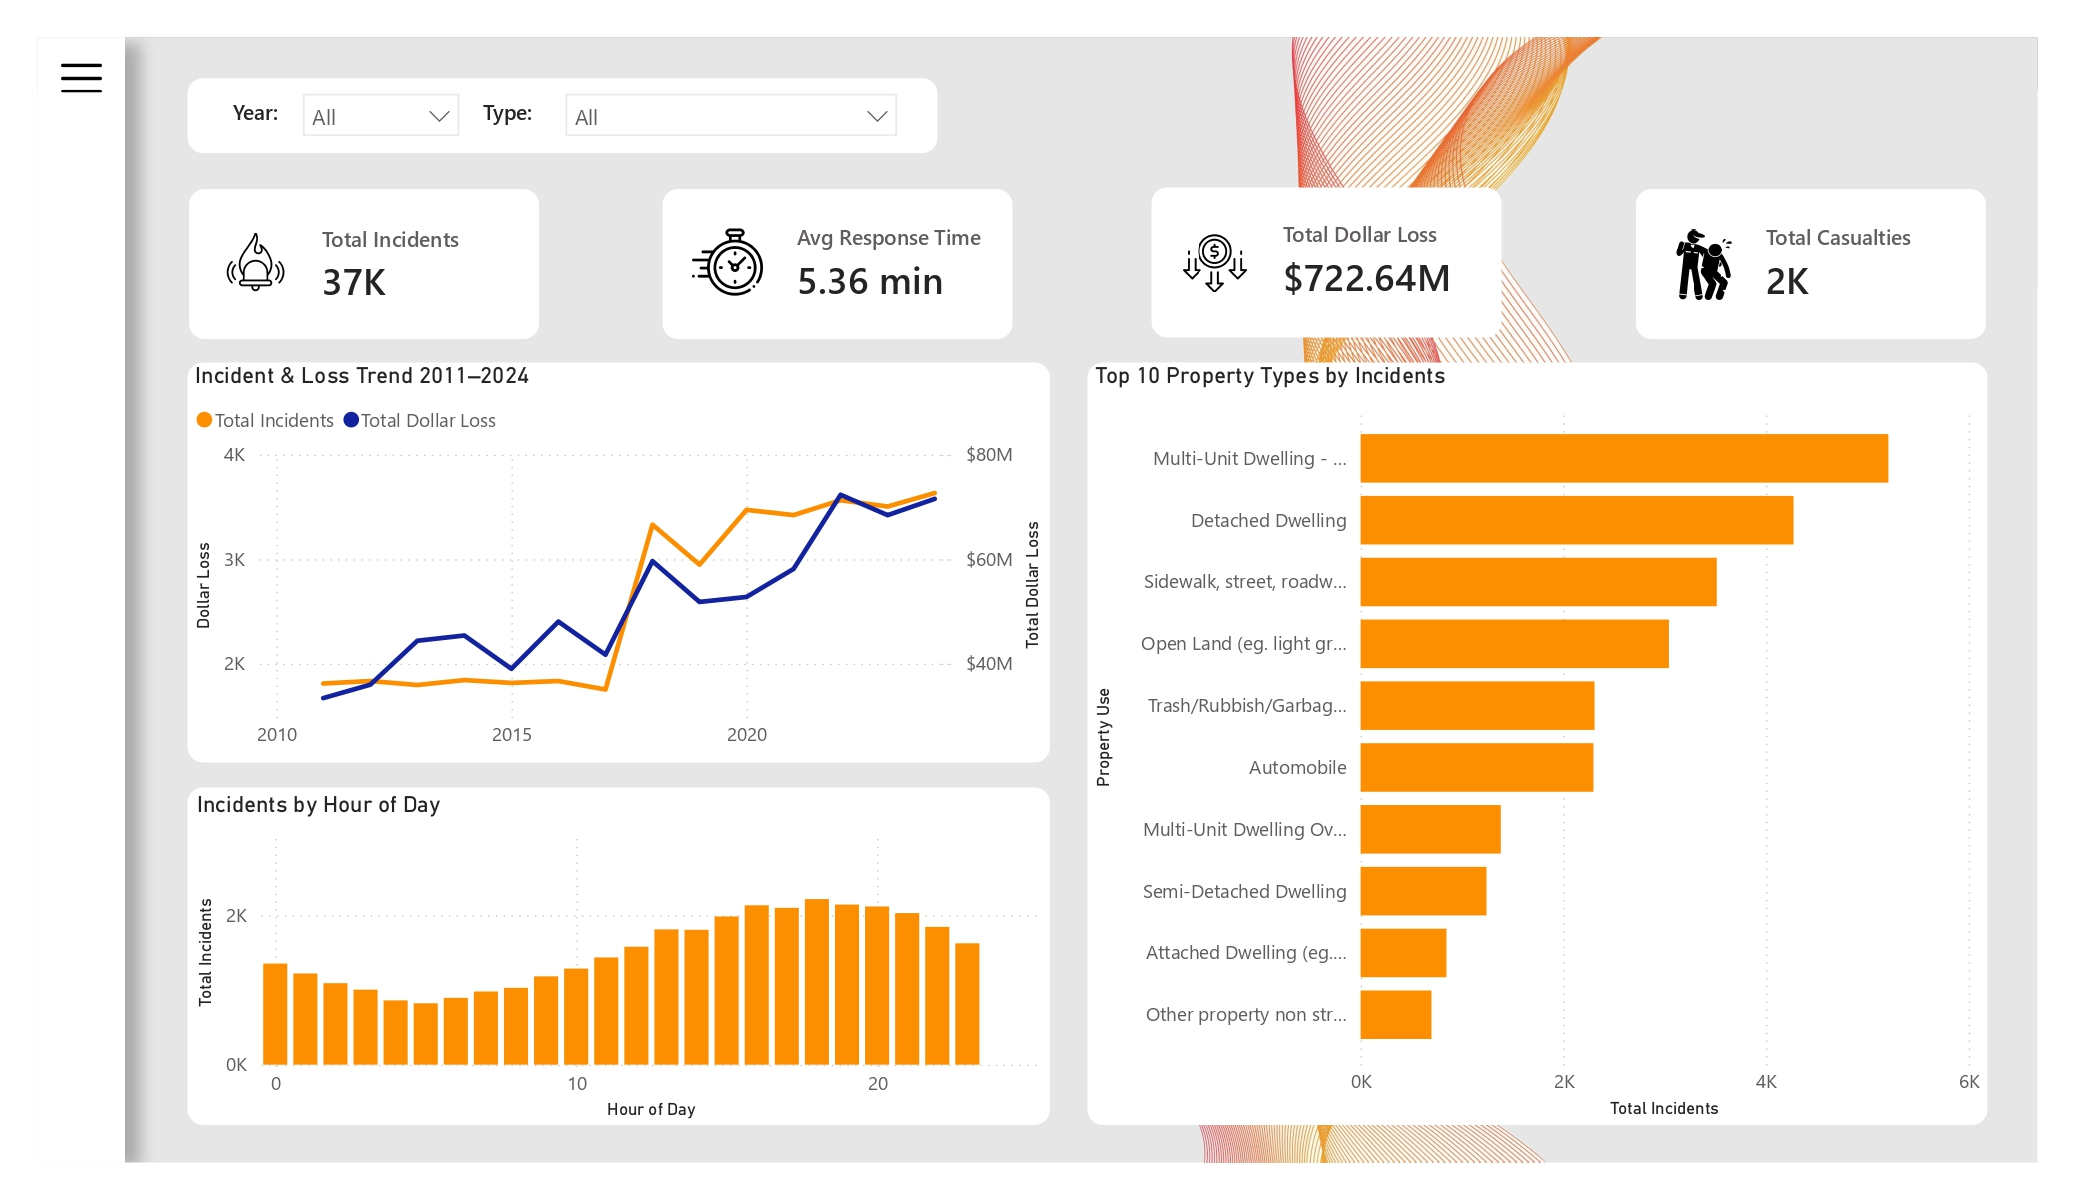

Layout of this report page (visuals, bound fields, positions):
{"tool":"powerbi","page":{"name":"Executive Overview","canvas":[1280,720],"ordinal":1},"visuals":[{"type":"shape","box":[96,480,552,216],"z":0},{"type":"shape","box":[672,208,576,488],"z":1000},{"type":"shape","box":[96,208,552,256],"z":2000},{"type":"shape","box":[0,0,56,720],"z":3000},{"type":"lineChart","title":"Incident & Loss Trend 2011–2024","fields":{"Category":["fact_incidents.year"],"Y":["_Measures.Total Incidents"],"Y2":["_Measures.Total Dollar Loss"]},"box":[96,208,552,256],"z":4000},{"type":"shape","box":[96.4,25.9,480,48],"z":5000},{"type":"slicer","title":"Year","fields":{"Values":["fact_incidents.year"]},"box":[160.4,25.9,120,48],"z":6000},{"type":"textbox","box":[120.4,33.9,40,32],"z":7000},{"type":"textbox","box":[280.4,33.9,48,32],"z":8000},{"type":"slicer","title":"Year","fields":{"Values":["fact_incidents.Incident_Type_Clean"]},"box":[328.4,25.9,232,48],"z":9000},{"type":"clusteredBarChart","title":"Top 10 Property Types by Incidents","fields":{"Category":["fact_incidents.Property_Use"],"Y":["_Measures.Total Incidents"]},"box":[672,208,576,488],"z":10000},{"type":"image","box":[10.6,13.3,34.6,25.7],"z":11000},{"type":"clusteredColumnChart","title":"Incidents by Hour of Day","fields":{"Category":["fact_incidents.hour_of_day"],"Y":["_Measures.Total Incidents"]},"box":[97,483.3,550,213.9],"z":12000},{"type":"shape","box":[96.7,96.9,224,96],"z":13000},{"type":"shape","box":[400.3,96.6,224,96],"z":14000},{"type":"shape","box":[1023.1,97.5,224,96],"z":15000},{"type":"cardVisual","fields":{"Data":["_Measures.Total Incidents"]},"box":[152.9,98.2,168.3,95.7],"z":16000},{"type":"shape","box":[712.5,95.6,224,96],"z":17000},{"type":"cardVisual","fields":{"Data":["_Measures.Total Dollar Loss"]},"box":[768.5,95.3,168.3,95.7],"z":18000},{"type":"cardVisual","fields":{"Data":["_Measures.Avg Response Time (min)"]},"box":[457.4,97,182.5,95.7],"z":19000},{"type":"cardVisual","fields":{"Data":["_Measures.Total Casualties"]},"box":[1077.4,97.1,170.1,95.7],"z":20000},{"type":"image","box":[114.8,121.2,48.7,45.2],"z":21000},{"type":"image","box":[416.6,120.9,48.7,45.2],"z":22000},{"type":"image","box":[728.6,121.8,48.7,45.2],"z":23000},{"type":"image","box":[1041.9,122.8,48.7,45.2],"z":24000}]}

Visuals, with their boxes on the page's 1280x720 design canvas (x1, y1, x2, y2). These are canvas units, not pixel positions in the 2075x1200 screenshot, which may show the page scaled, cropped or inside an application window:
shape: pyautogui.locateOnScreen(96, 480, 648, 696)
shape: pyautogui.locateOnScreen(672, 208, 1248, 696)
shape: pyautogui.locateOnScreen(96, 208, 648, 464)
shape: pyautogui.locateOnScreen(0, 0, 56, 720)
"Incident & Loss Trend 2011–2024" lineChart: pyautogui.locateOnScreen(96, 208, 648, 464)
shape: pyautogui.locateOnScreen(96, 26, 576, 74)
"Year" slicer: pyautogui.locateOnScreen(160, 26, 280, 74)
textbox: pyautogui.locateOnScreen(120, 34, 160, 66)
textbox: pyautogui.locateOnScreen(280, 34, 328, 66)
"Year" slicer: pyautogui.locateOnScreen(328, 26, 560, 74)
"Top 10 Property Types by Incidents" clusteredBarChart: pyautogui.locateOnScreen(672, 208, 1248, 696)
image: pyautogui.locateOnScreen(11, 13, 45, 39)
"Incidents by Hour of Day" clusteredColumnChart: pyautogui.locateOnScreen(97, 483, 647, 697)
shape: pyautogui.locateOnScreen(97, 97, 321, 193)
shape: pyautogui.locateOnScreen(400, 97, 624, 193)
shape: pyautogui.locateOnScreen(1023, 98, 1247, 194)
cardVisual - _Measures.Total Incidents: pyautogui.locateOnScreen(153, 98, 321, 194)
shape: pyautogui.locateOnScreen(712, 96, 936, 192)
cardVisual - _Measures.Total Dollar Loss: pyautogui.locateOnScreen(768, 95, 937, 191)
cardVisual - _Measures.Avg Response Time (min): pyautogui.locateOnScreen(457, 97, 640, 193)
cardVisual - _Measures.Total Casualties: pyautogui.locateOnScreen(1077, 97, 1248, 193)
image: pyautogui.locateOnScreen(115, 121, 164, 166)
image: pyautogui.locateOnScreen(417, 121, 465, 166)
image: pyautogui.locateOnScreen(729, 122, 777, 167)
image: pyautogui.locateOnScreen(1042, 123, 1091, 168)
